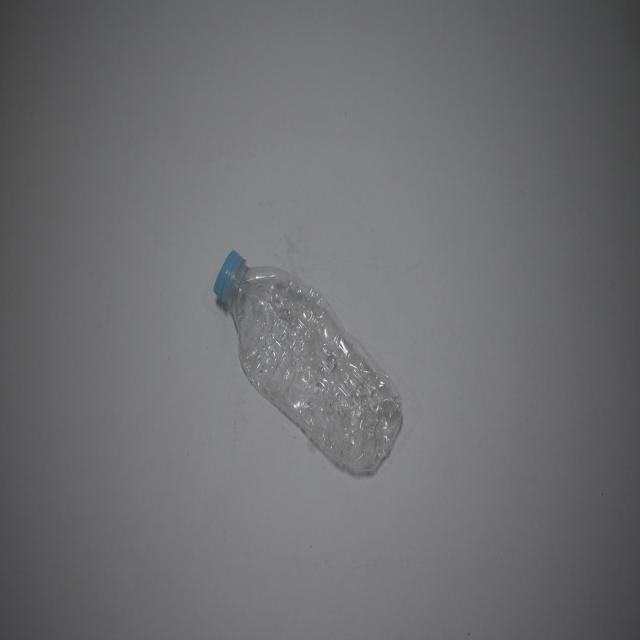bottle: (204, 236, 428, 520)
